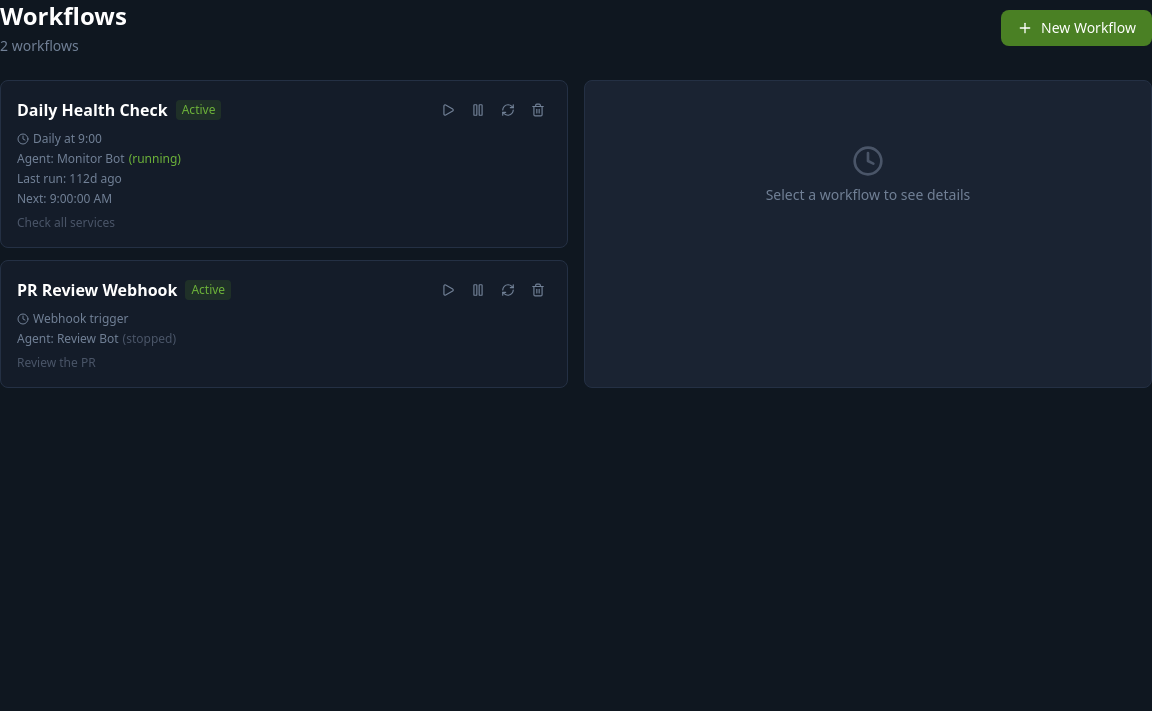
WorkflowsClient › opens create form on New Workflow click
Click the button "New Workflow". click: {"x": 1076, "y": 28}
box: [1001,10,1151,46]
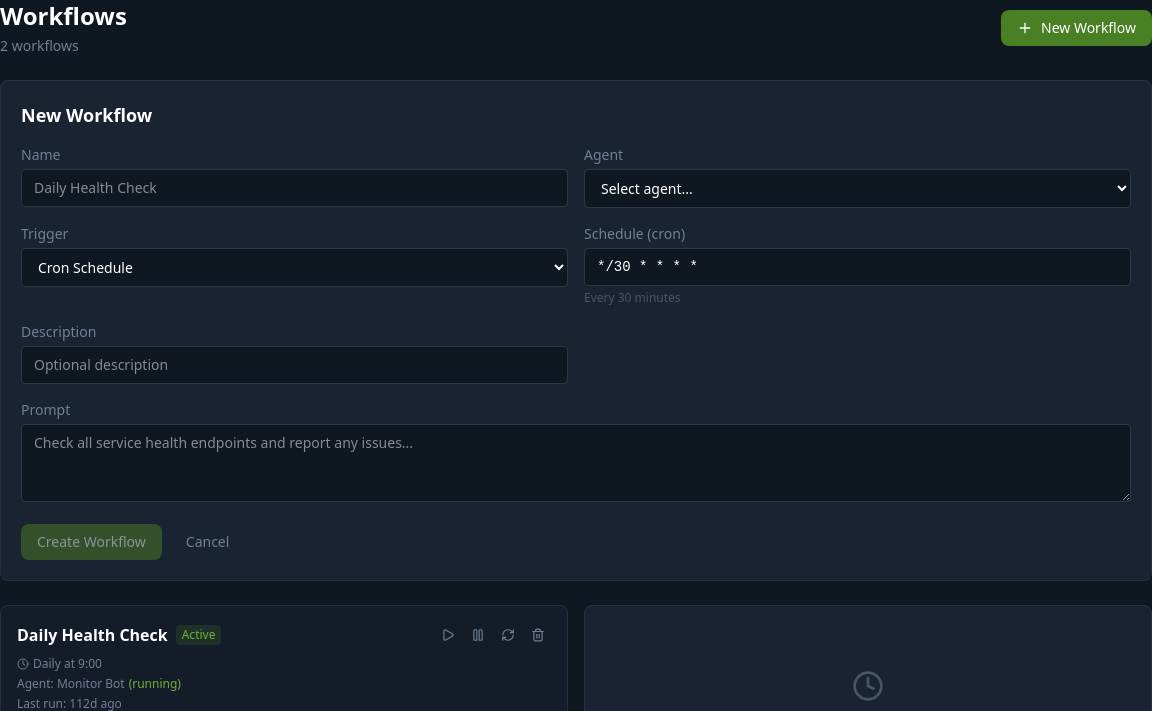
Expected: the text "Trigger" is shown, [21,224,68,243]
Expected: the field with placeholder "Daily Health Check" is shown, [21,169,568,207]
